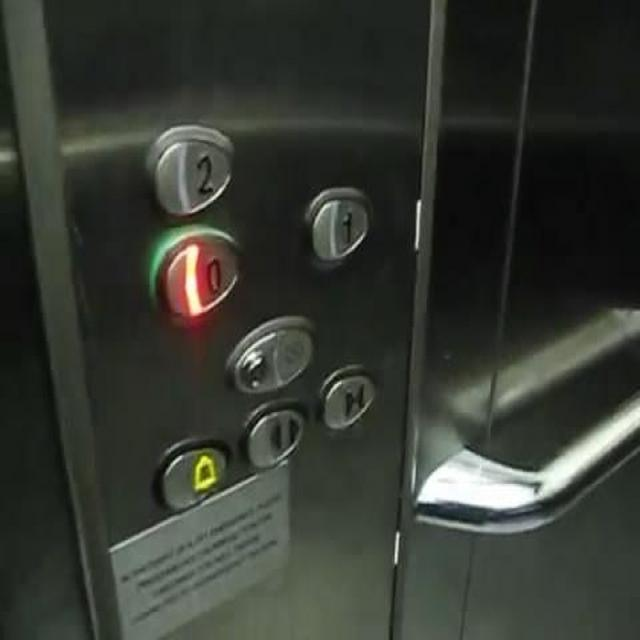0: (144, 224, 245, 328)
1: (299, 180, 374, 269)
2: (141, 120, 240, 223)
alarm: (148, 432, 231, 516)
close: (313, 358, 380, 438)
open: (237, 397, 308, 475)
